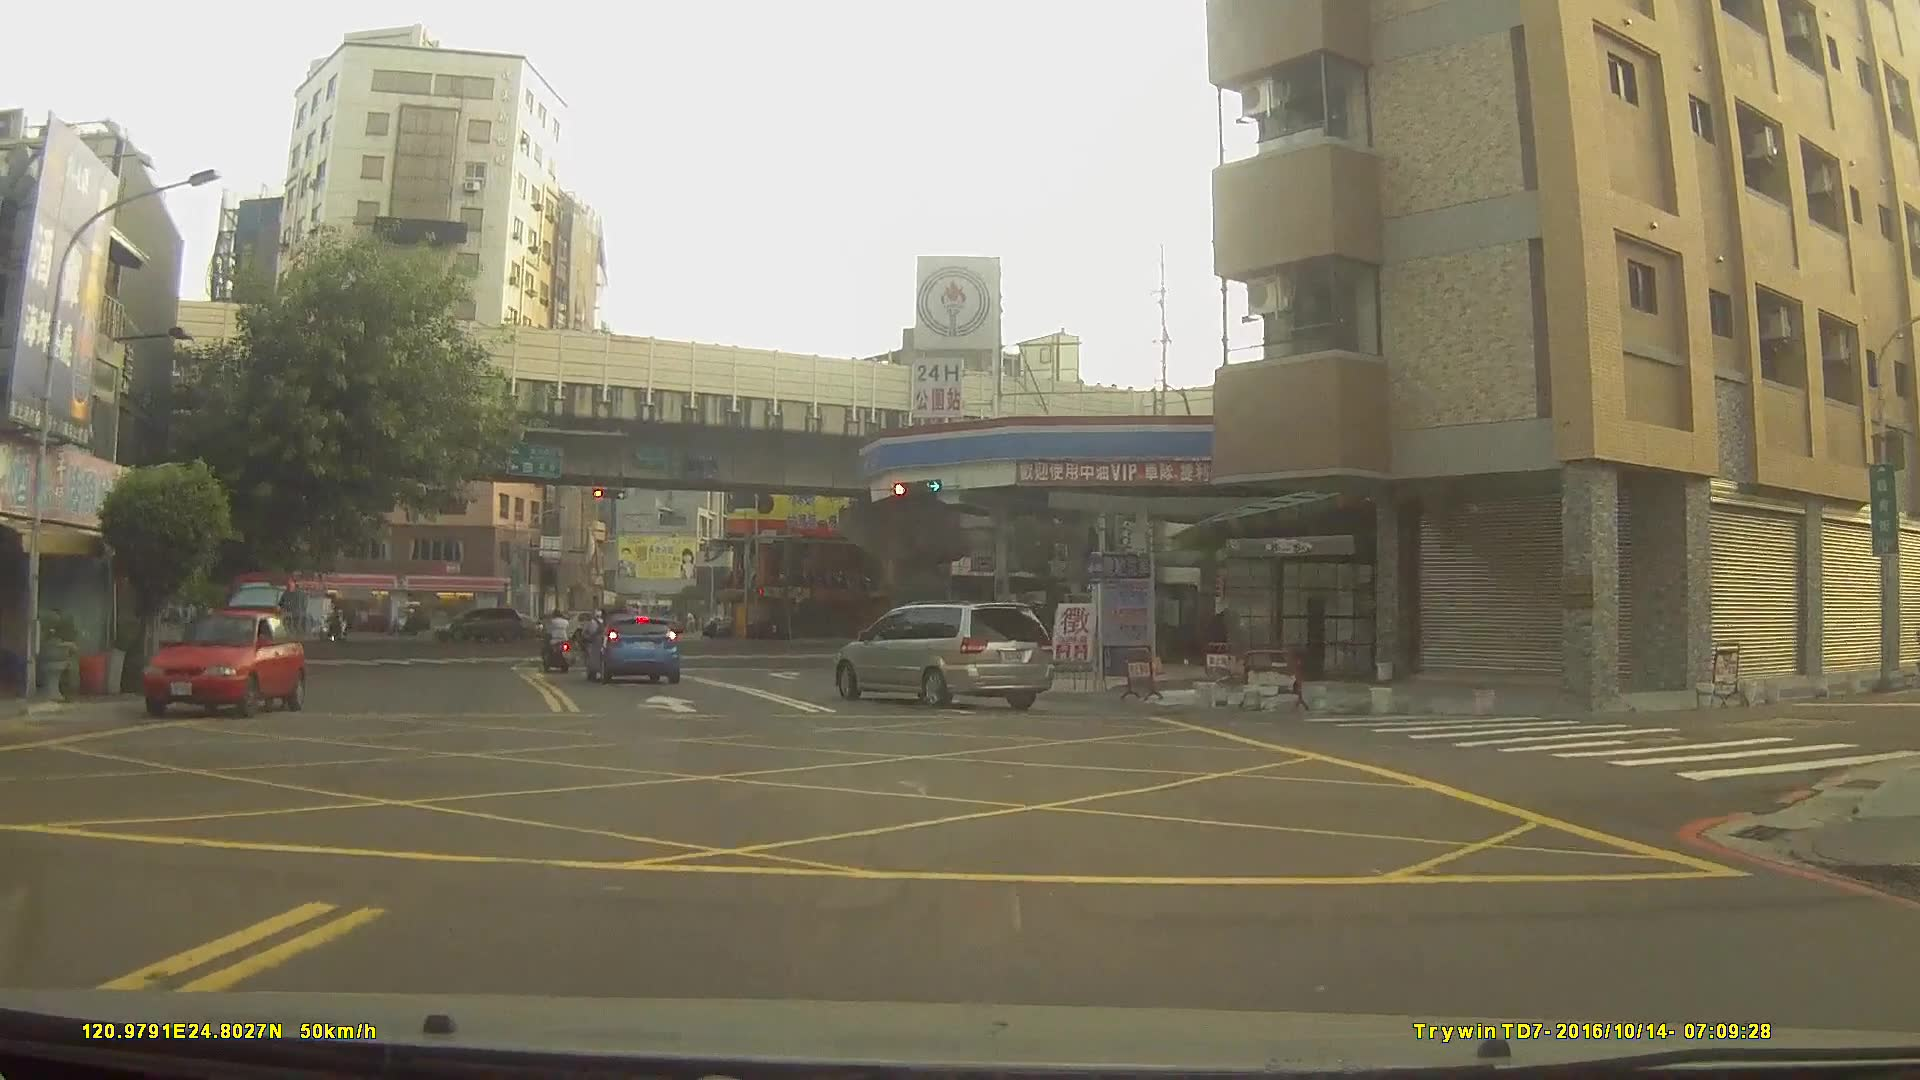rider: (538, 610, 573, 671), (319, 606, 350, 646)
vehicle: (834, 601, 1054, 709), (140, 606, 309, 719), (579, 614, 680, 686), (429, 609, 526, 646), (537, 604, 616, 639)
